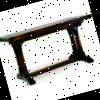Mesa: (0, 12, 99, 92)
